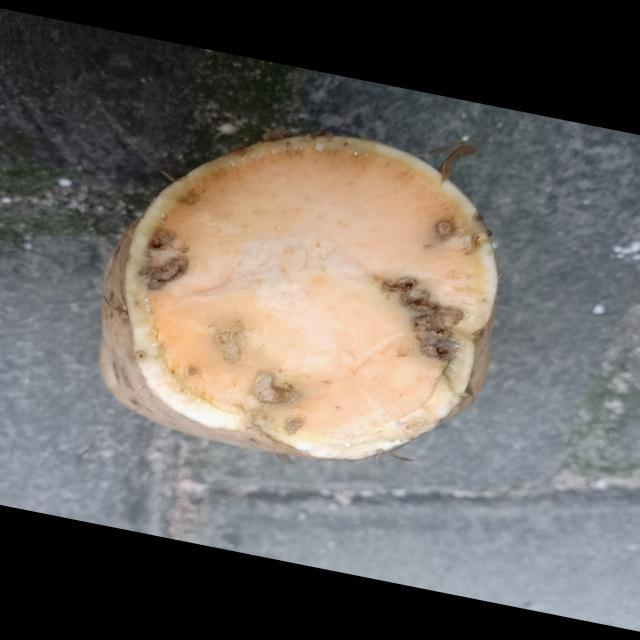Sick Sweet Potato_Tuber Rot: (100, 135, 498, 460)
